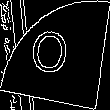O_S: (33, 25, 77, 85)
